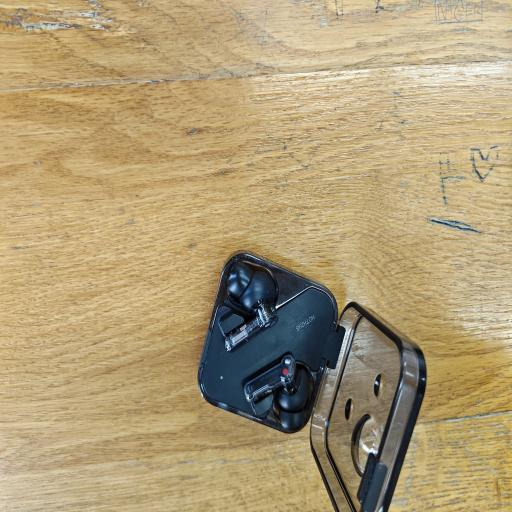CASTI: (188, 248, 433, 511)
